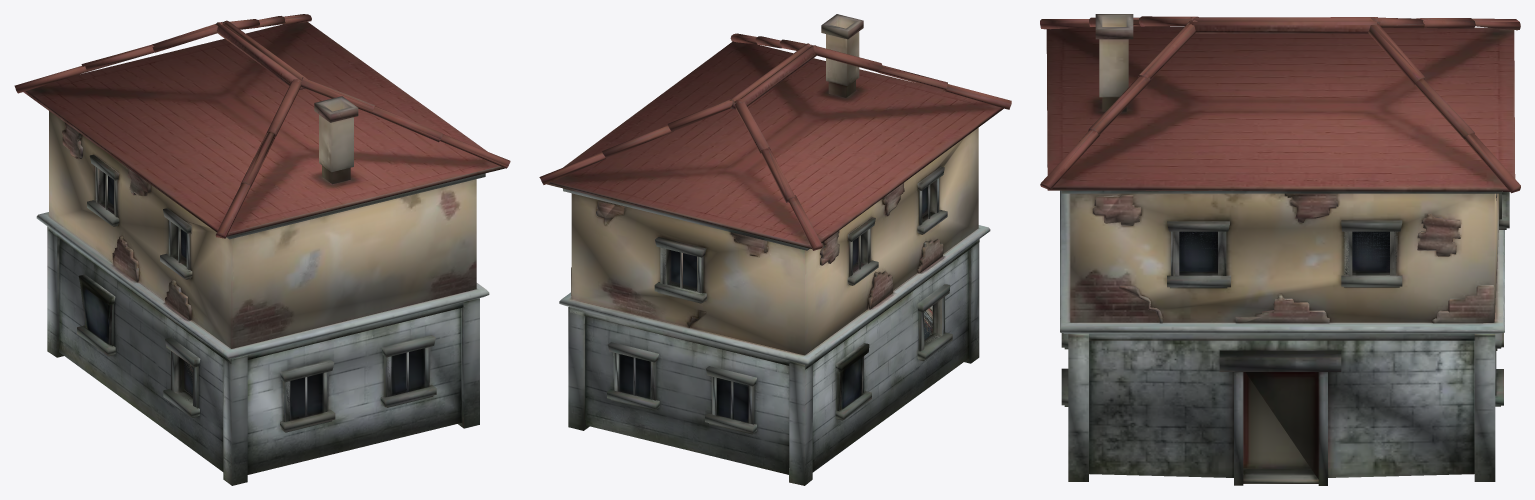
The model's file is house.glb.
3 views of the same model, side by side, from view 1: azimuth 30°, elevation 25°; view 2: azimuth 150°, elevation 25°; view 3: azimuth 270°, elevation 25° (orthographic). The views are drawn at different scales.
Parts seen in each view (by area): view 1: model; view 2: model; view 3: model.
Part boxes in pixels (x1,y1,x2,y2): model: [14, 14, 510, 485]; model: [539, 14, 1011, 485]; model: [1040, 14, 1520, 485].
Size of the model in its own units: 0.9176 by 1 by 1.11.
Materials: 1 (1 with a texture image).
